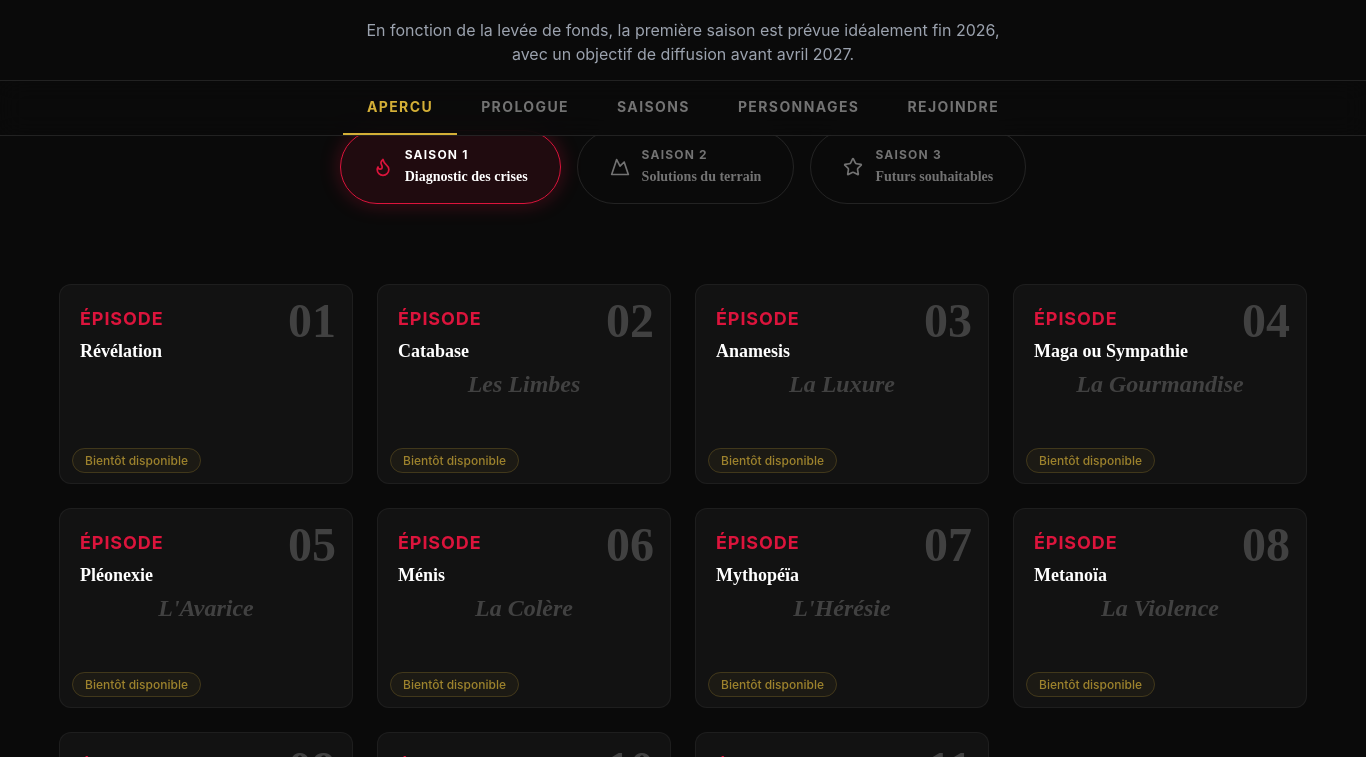
Scenario: Serie - Story 2.2 Exploration & Opt-in › affiche le synopsis dans la modale épisode (FR8)
The width and height of the screenshot is (1366, 757).
(page scrolled)
Click first episode card to open modal
Click the button with aria-label "Voir les thèmes de l'épisode".
click(312, 321)  # box [59, 284, 353, 484]
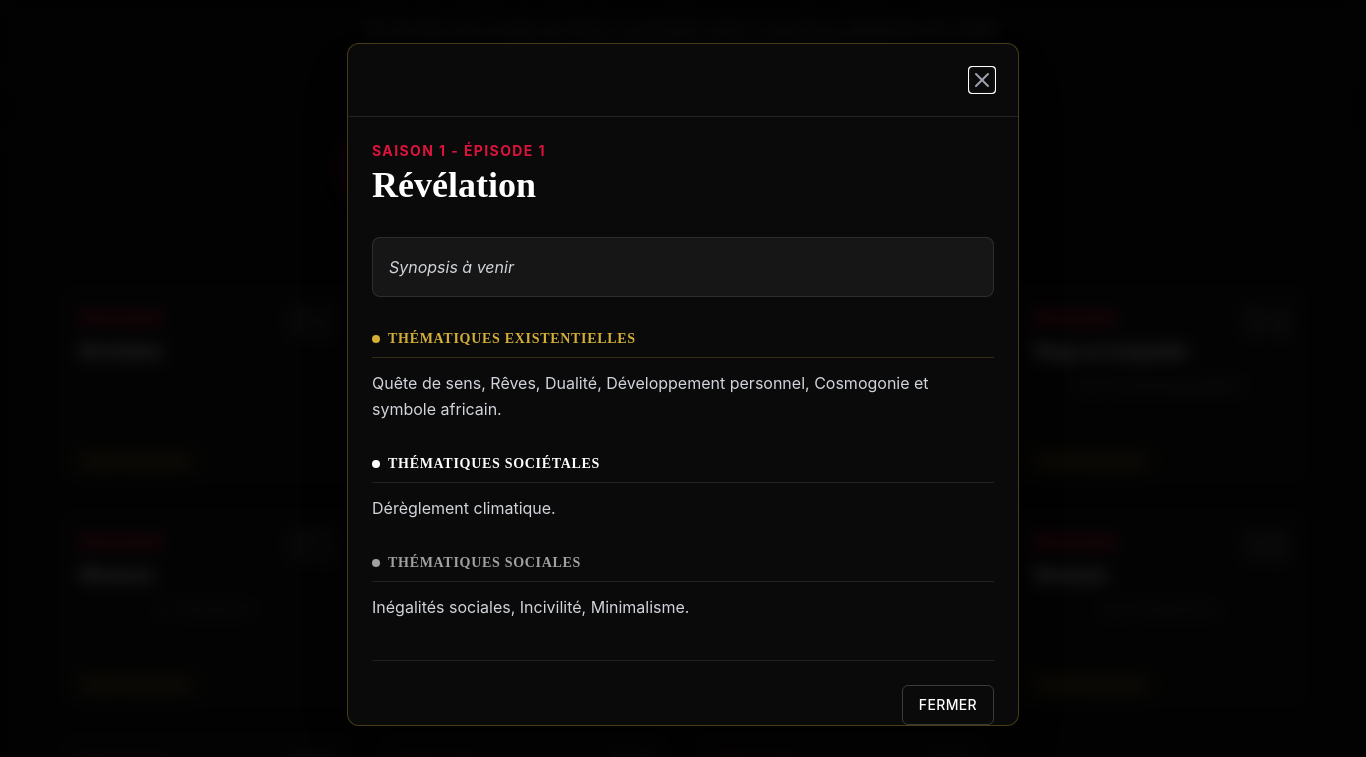
Check: the text "Synopsis à venir" is shown, box [389, 256, 514, 276]
